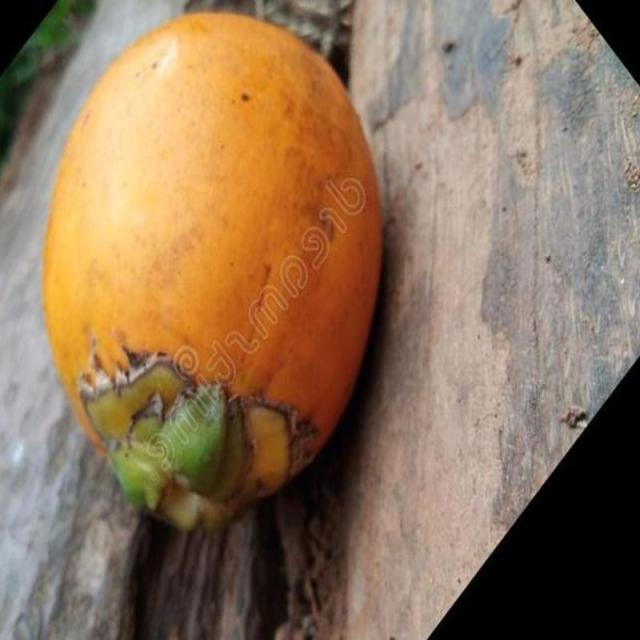good: (38, 14, 384, 538)
